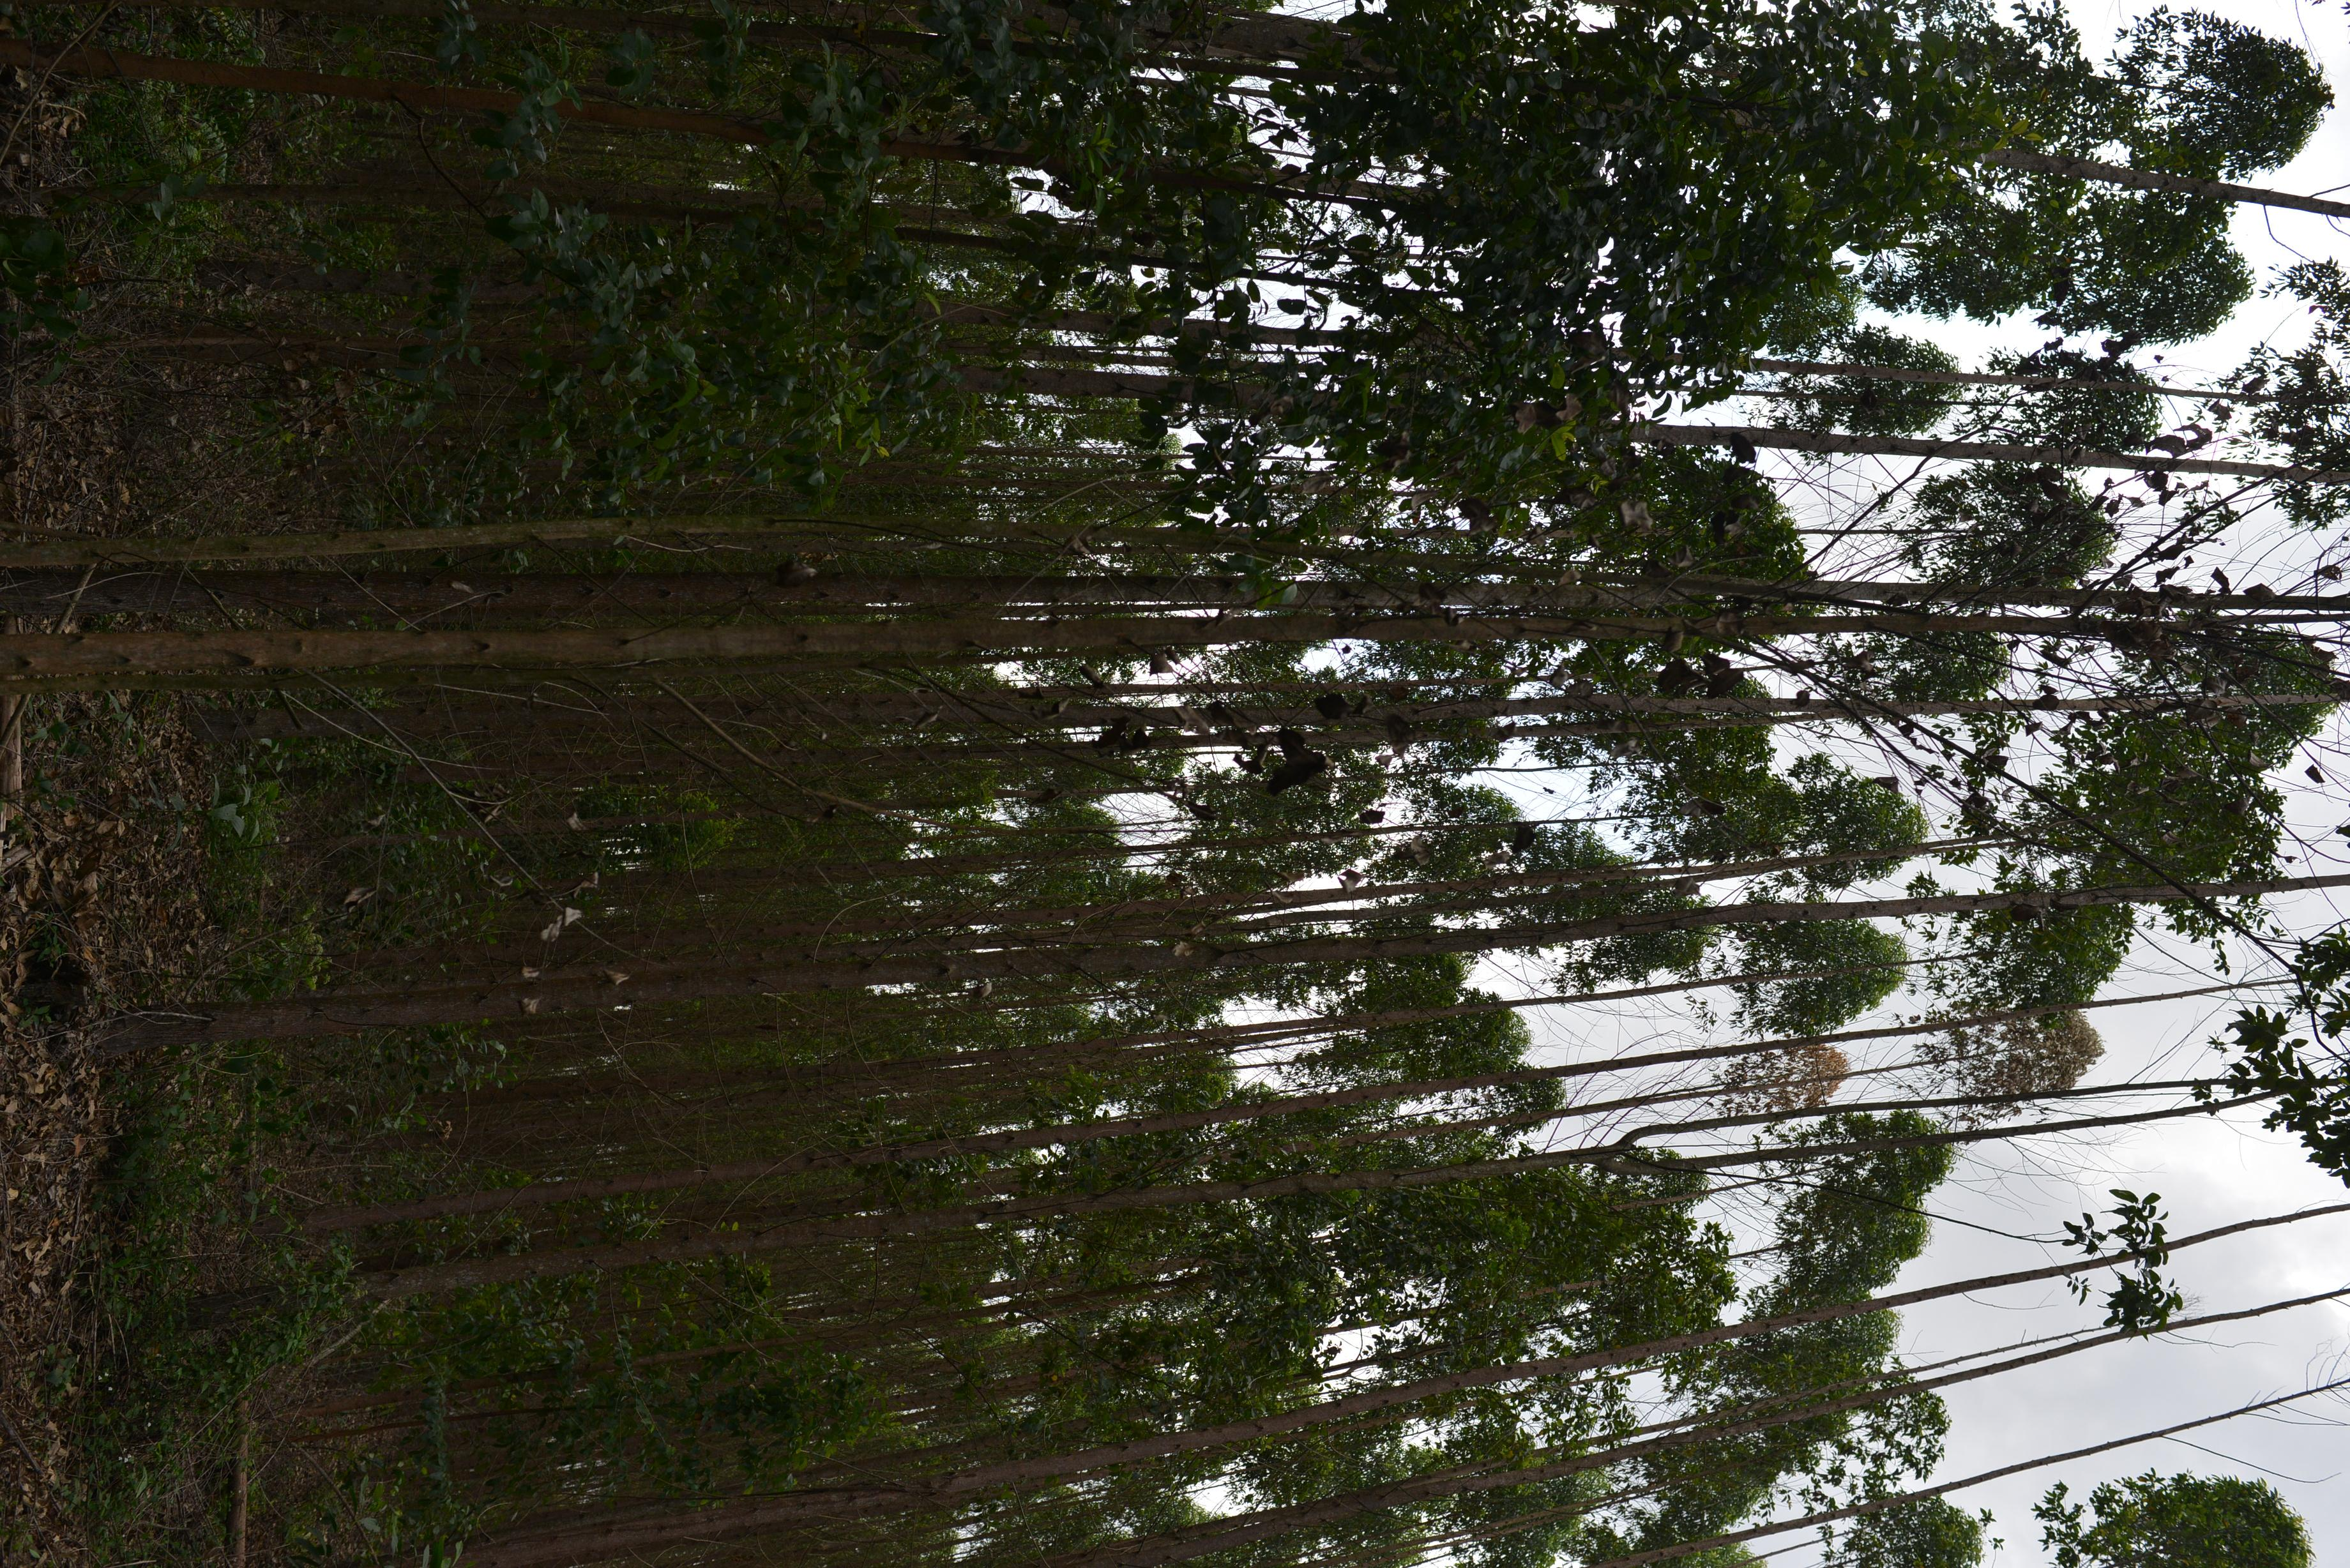Wither Tree Parts: (1949, 987, 2114, 1125), (1780, 1045, 1853, 1109)
